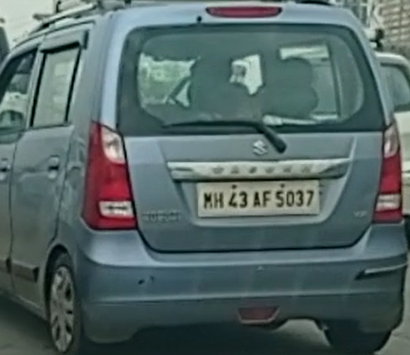MH43AF5037: (196, 177, 320, 218)
